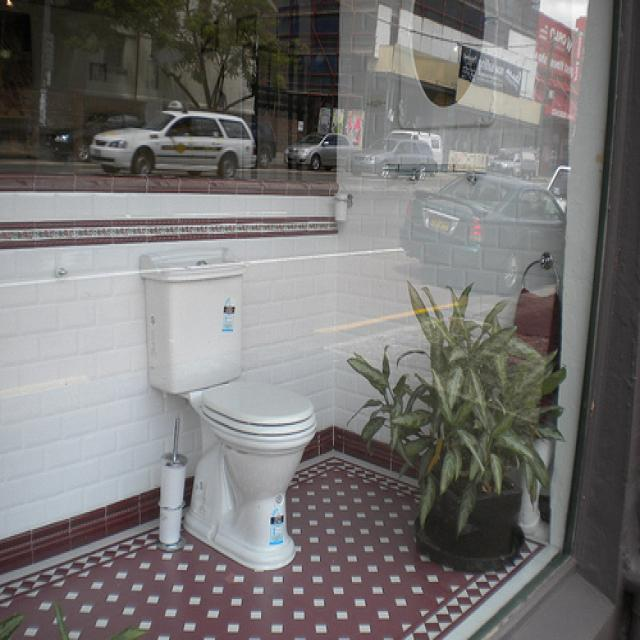Vehicle: (400, 170, 566, 294), (90, 111, 258, 179), (350, 136, 438, 182), (284, 129, 360, 173), (390, 130, 442, 172), (244, 121, 278, 167), (545, 165, 572, 218), (487, 150, 538, 178)
